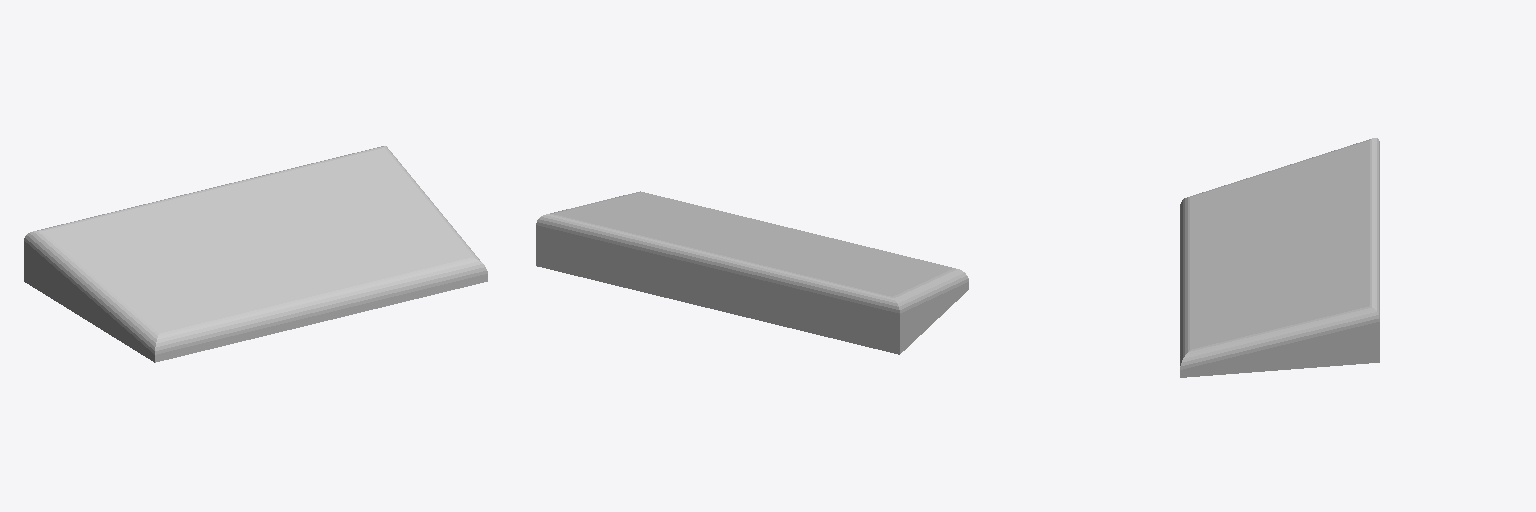
File: original-91.obj
3 views of the same model, side by side, from view 1: azimuth 30°, elevation 25°; view 2: azimuth 150°, elevation 25°; view 3: azimuth 270°, elevation 25° (orthographic).
Visible parts, largest first — view 1: #ID672; view 2: #ID672; view 3: #ID672.
Boxes of the visible parts, x1,y1,x2,y2 form: #ID672: [24, 146, 487, 362]; #ID672: [536, 191, 968, 354]; #ID672: [1180, 138, 1379, 377].
Size of the model in its own units: 0.1753 by 0.0307 by 0.0836.